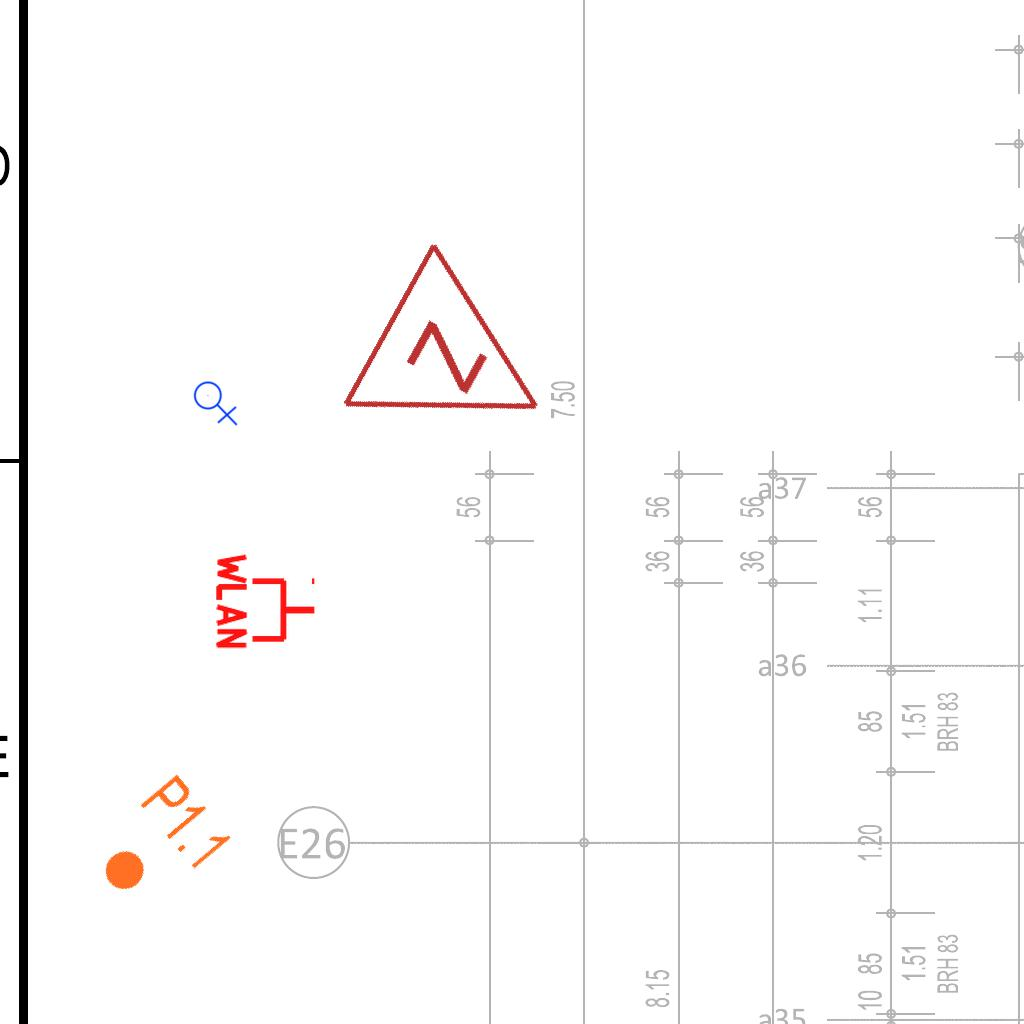Downlight_LED_Einbauleuchten_Flur: (79, 769, 238, 923)
Elektroanschluss_allgemein_230V_Geraeteanschlussdose_230V: (193, 377, 240, 426)
WLAN: (214, 549, 319, 653)
Zimmersignalleuchte: (328, 228, 598, 498)
